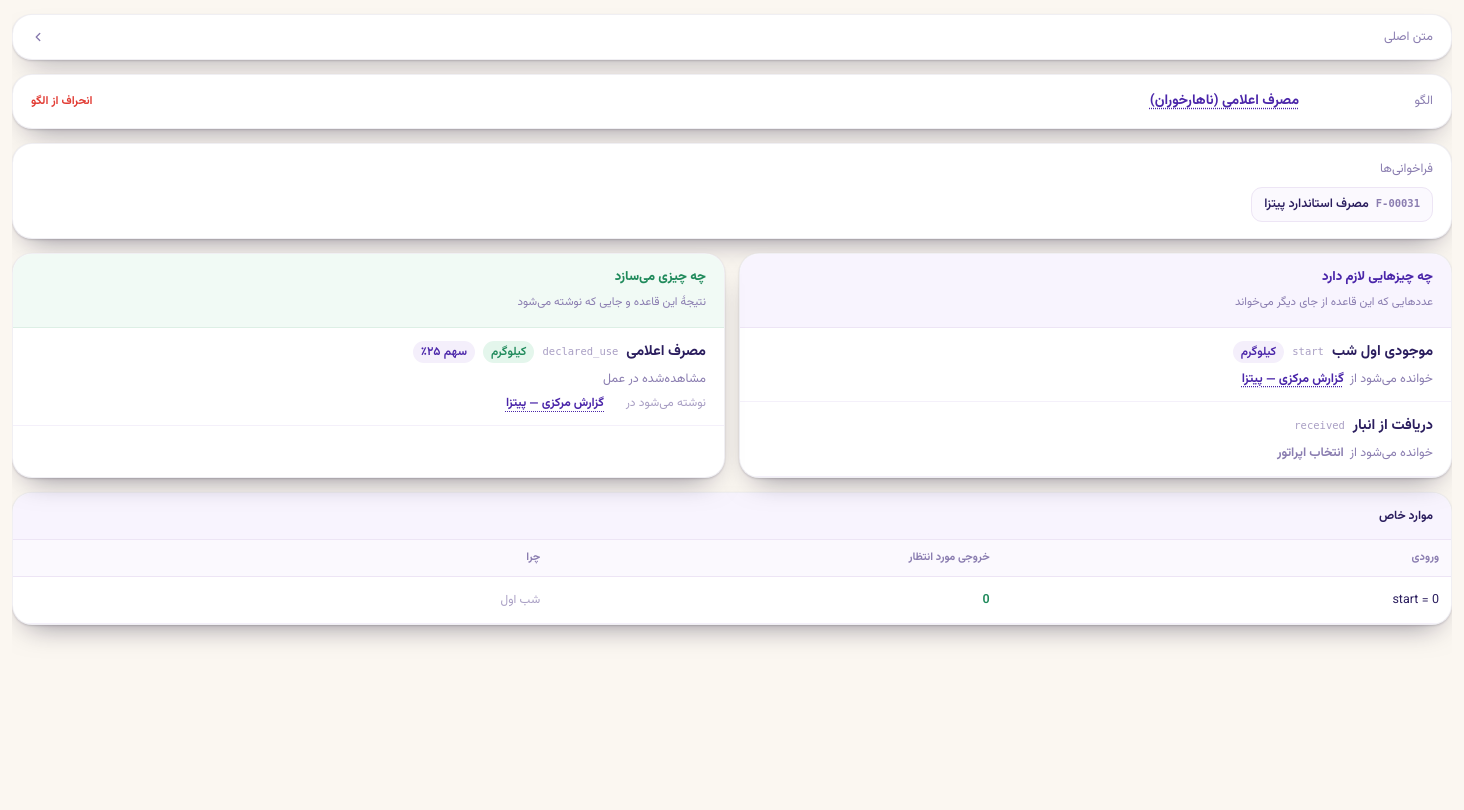
Test: the rule card › keeps «متن اصلی» collapsed and closed until it is asked for
This screenshot has width=1464, height=810.
Expected: the text "facts/originals/F-00030.txt" is not shown
Click the button "متن اصلی". click: [1409, 37]
box: [13,15,1451,59]
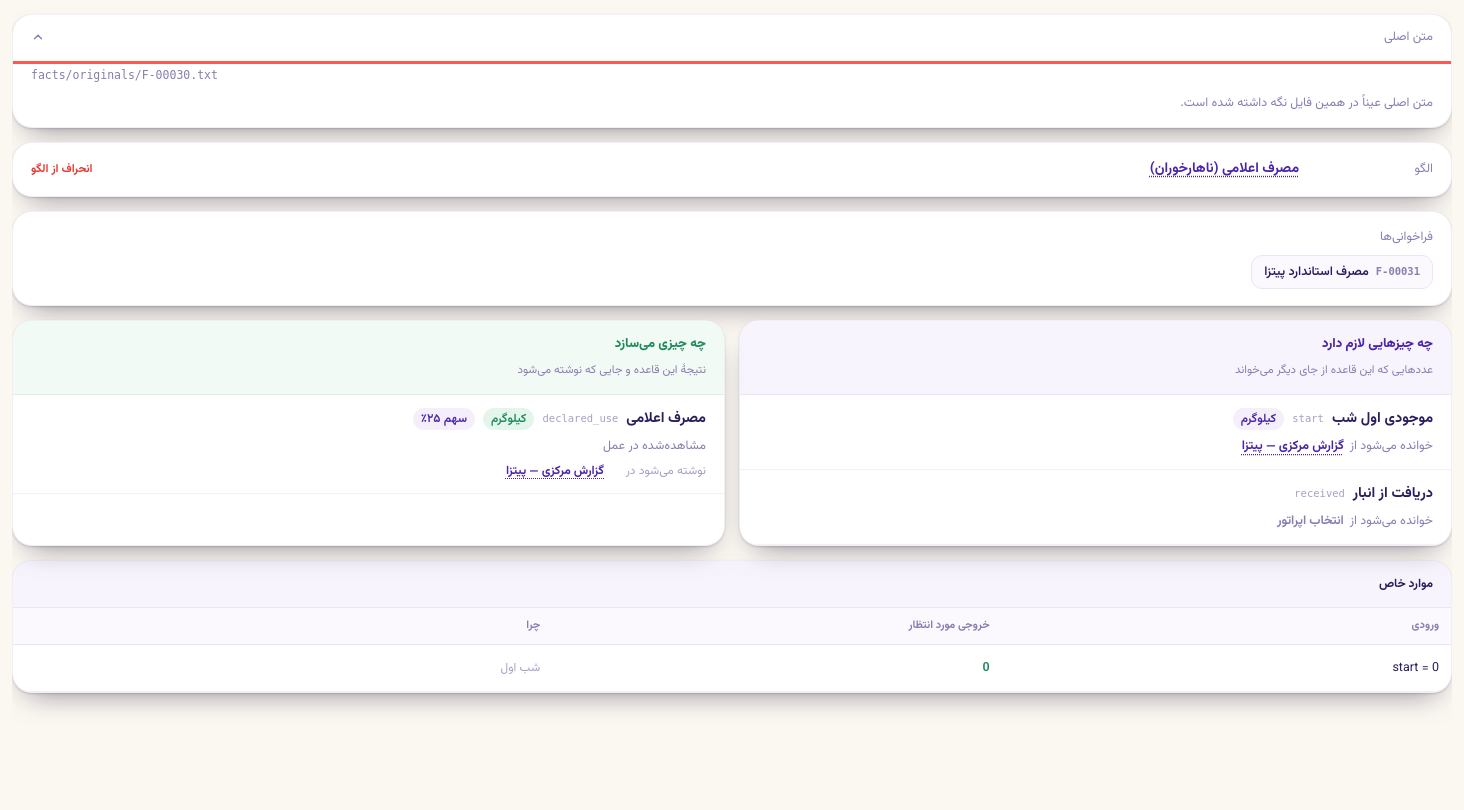
Now the button "متن اصلی" is expanded, box [13,15,1451,59]
Now the text "facts/originals/F-00030.txt" is shown, box [31,68,218,82]
